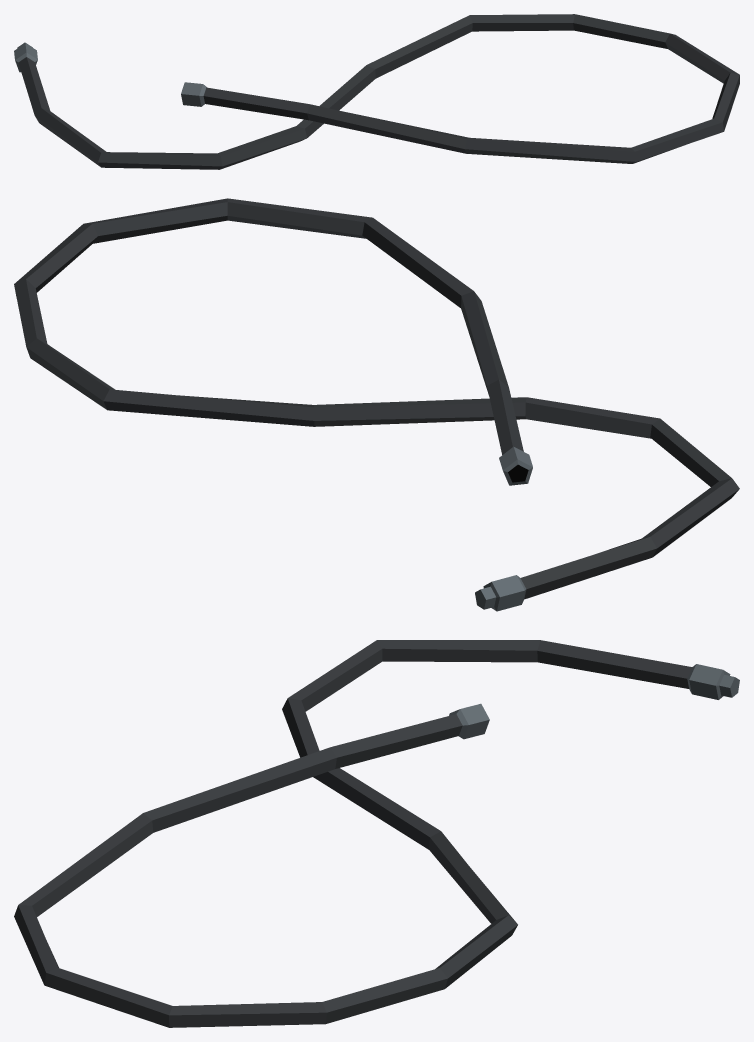
Rendered from SM_Prop_Cables_06.fbx.
The picture shows the model from 3 angles, top to bottom: view 1: azimuth 30°, elevation 25°; view 2: azimuth 150°, elevation 25°; view 3: azimuth 270°, elevation 25°; orthographic projection. The views are drawn at different scales.
Parts seen in each view (by area): view 1: SM_Prop_Cables_06; view 2: SM_Prop_Cables_06; view 3: SM_Prop_Cables_06.
Boxes of the visible parts, x1,y1,x2,y2 form: SM_Prop_Cables_06: (14,14,739,169); SM_Prop_Cables_06: (14,198,739,611); SM_Prop_Cables_06: (14,640,739,1027).
Size of the model in its own units: 316 by 16.38 by 259.
